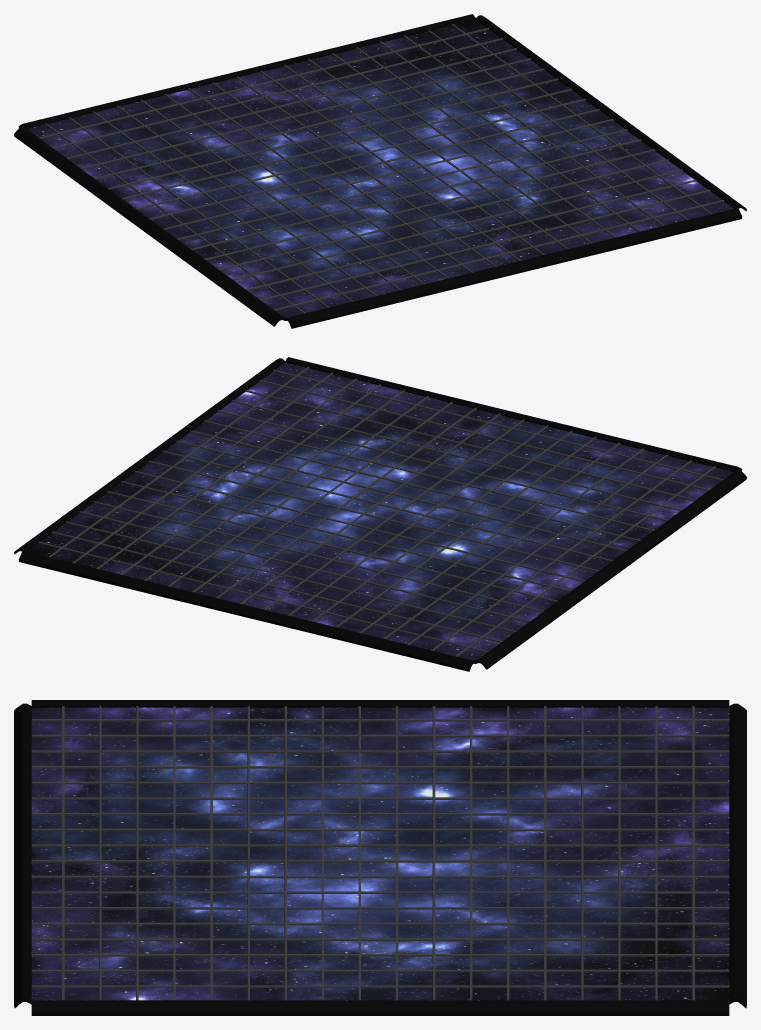
Rendered from Grid_with_Texture.fbx_Scene.fbx.
The picture shows the model from 3 angles, top to bottom: view 1: azimuth 30°, elevation 25°; view 2: azimuth 150°, elevation 25°; view 3: azimuth 270°, elevation 25°; orthographic projection. The views are drawn at different scales.
Visible parts, largest first — view 1: Plane, Cube, board.001, board; view 2: Plane, Cube, board.001, board; view 3: Plane, Cube, board, board.001.
Part boxes in pixels (x1,y1,x2,y2): Plane: (27,19,733,319); Cube: (39,24,724,313); board.001: (18,14,742,328); board: (14,15,746,326); Plane: (27,362,733,662); Cube: (38,367,723,656); board.001: (18,357,741,671); board: (14,358,746,669); Plane: (31,707,729,1002); Cube: (31,706,729,1000); board: (31,700,729,1015); board.001: (14,703,746,1008).
Size of the model in its own units: 630 by 9.75 by 630.
3 materials, 1 textured.
